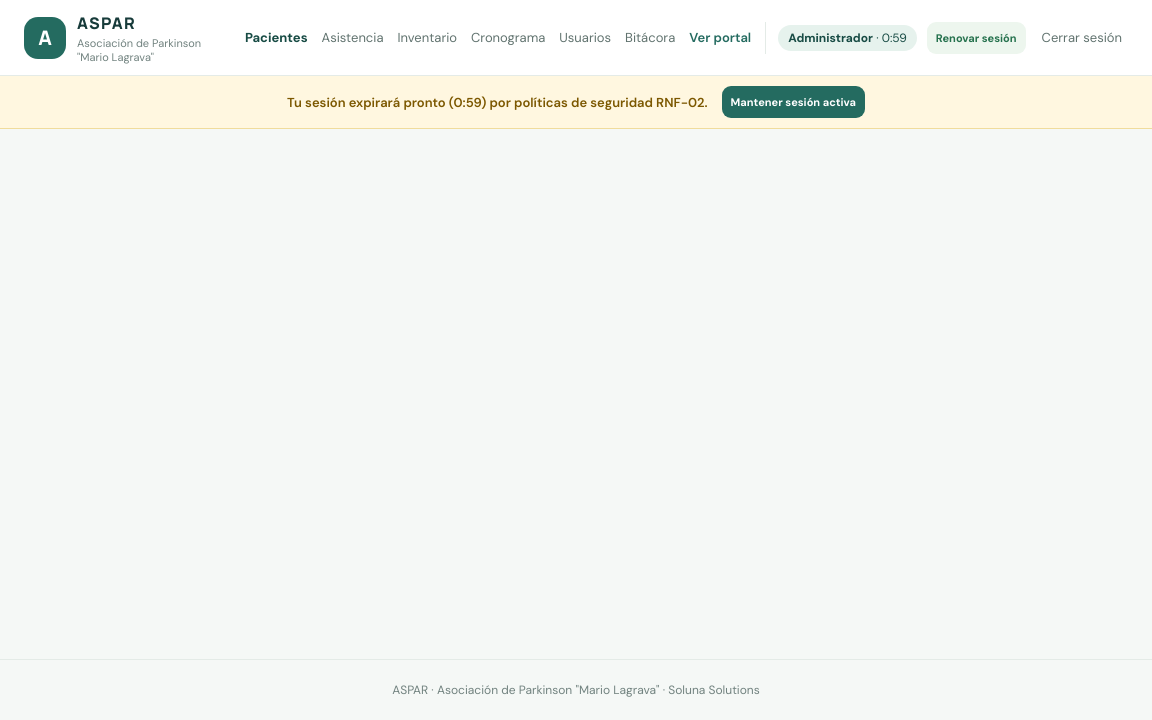
SCRUM-67: App.vue — sesión en la barra superior › si el Backend no renueva la sesión lo informa al usuario
Click the button "Mantener sesión activa".
click(793, 102)  # box [722, 86, 865, 118]
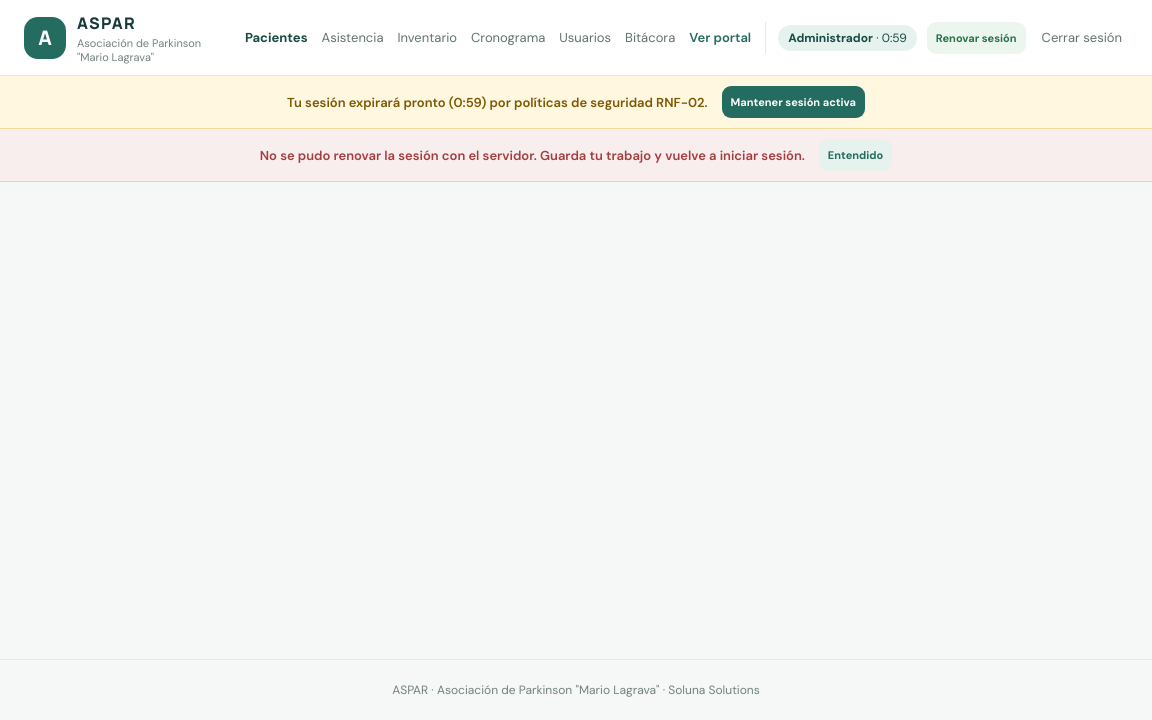
Check: the message with class "session-banner-expired" shows "No se pudo renovar la sesión", box [260, 146, 805, 164]
